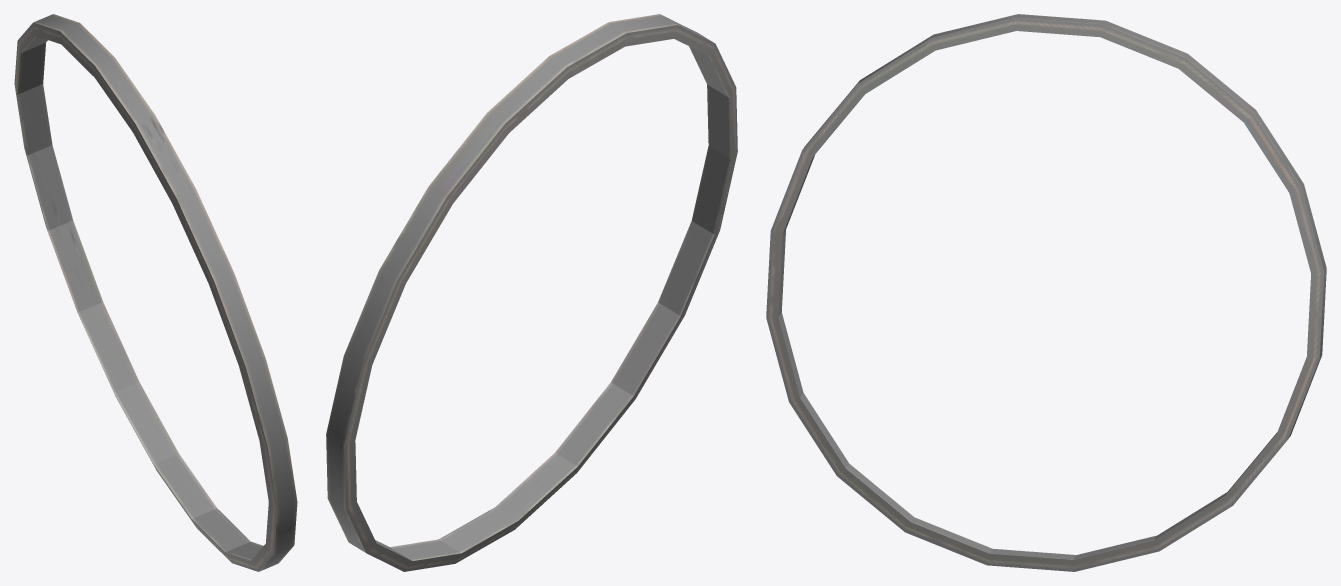
The model's file is celestialPrism_innerRing003.glb.
3 views of the same model, side by side, from view 1: azimuth 30°, elevation 25°; view 2: azimuth 150°, elevation 25°; view 3: azimuth 270°, elevation 25° (orthographic). The views are drawn at different scales.
Parts seen in each view (by area): view 1: innerRing03; view 2: innerRing03; view 3: innerRing03.
Boxes of the visible parts, bbox=[...] form: innerRing03: bbox=[14, 14, 297, 571]; innerRing03: bbox=[326, 14, 737, 571]; innerRing03: bbox=[766, 14, 1326, 571].
Bounding box in the file's own units: 0.1081 × 0.3367 × 0.3442.
Materials: 1 (1 with a texture image).
